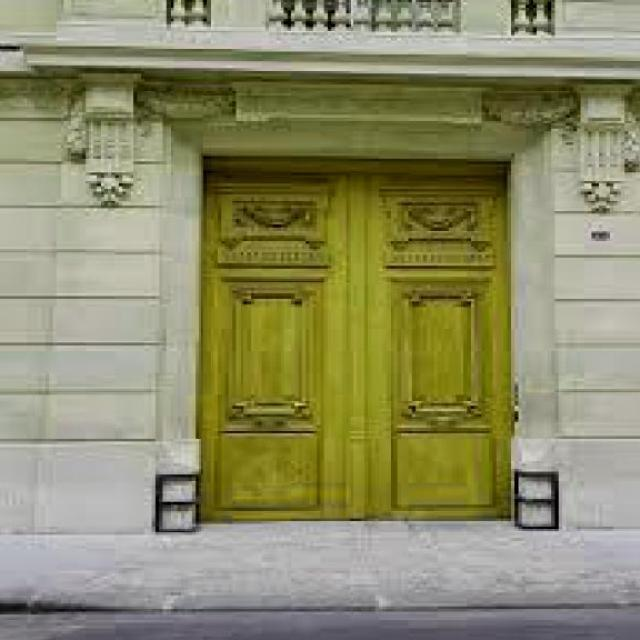door: (198, 154, 354, 520), (356, 158, 512, 523)
